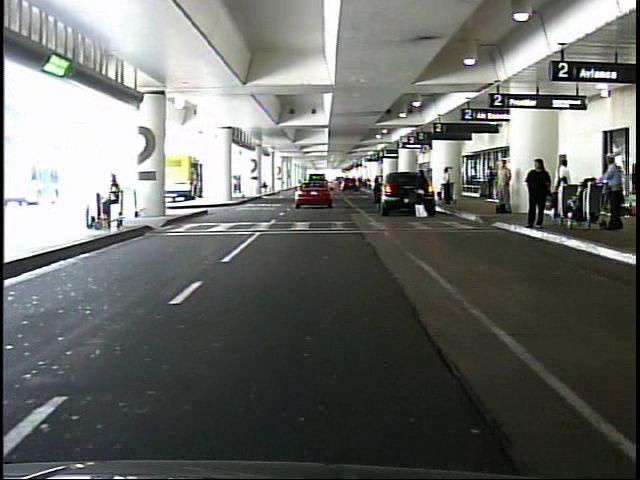person: (598, 153, 623, 236), (524, 156, 549, 232), (98, 170, 122, 224), (553, 157, 572, 211), (415, 168, 431, 221), (441, 166, 455, 207), (484, 161, 496, 200)
